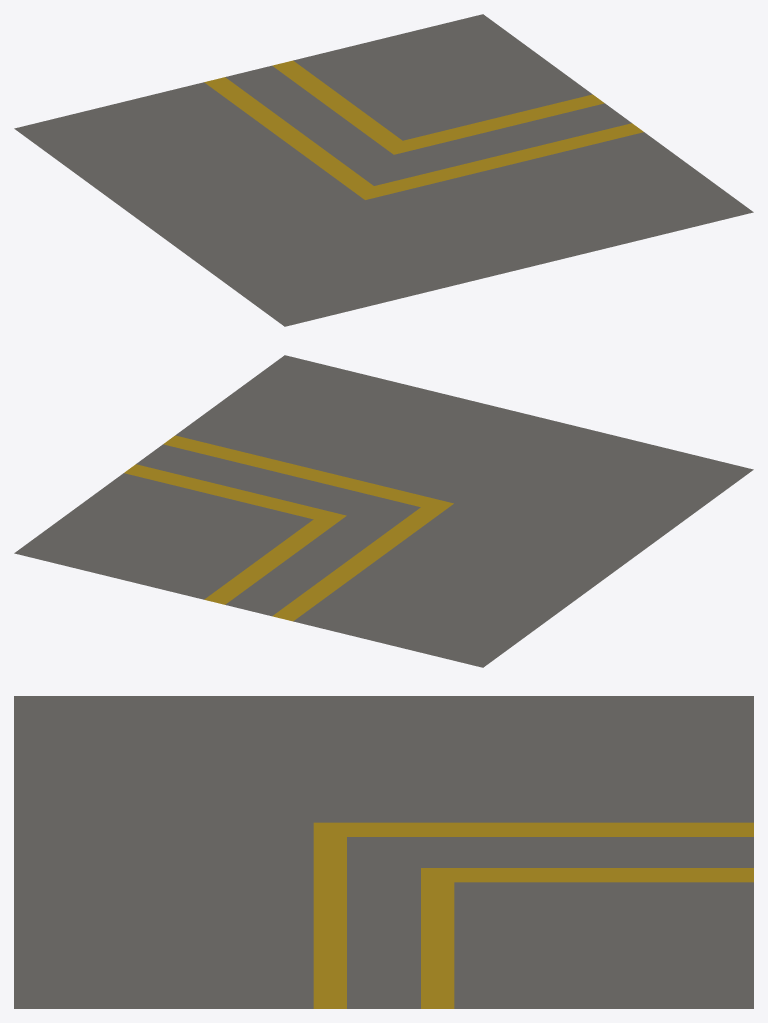
Rendered from AI_Env_Floor_Factory_Lined_02.fbx.
The picture shows the model from 3 angles, top to bottom: view 1: azimuth 30°, elevation 25°; view 2: azimuth 150°, elevation 25°; view 3: azimuth 270°, elevation 25°; orthographic projection. The views are drawn at different scales.
Visible parts, largest first — view 1: AI_Env_Floor_Factory_Lined_02; view 2: AI_Env_Floor_Factory_Lined_02; view 3: AI_Env_Floor_Factory_Lined_02.
Boxes of the visible parts, box(x1,y1,x2,y2) form: AI_Env_Floor_Factory_Lined_02: box(14, 14, 753, 326); AI_Env_Floor_Factory_Lined_02: box(14, 355, 753, 667); AI_Env_Floor_Factory_Lined_02: box(14, 696, 753, 1008).
Size of the model in its own units: 5 by 0 by 5.
